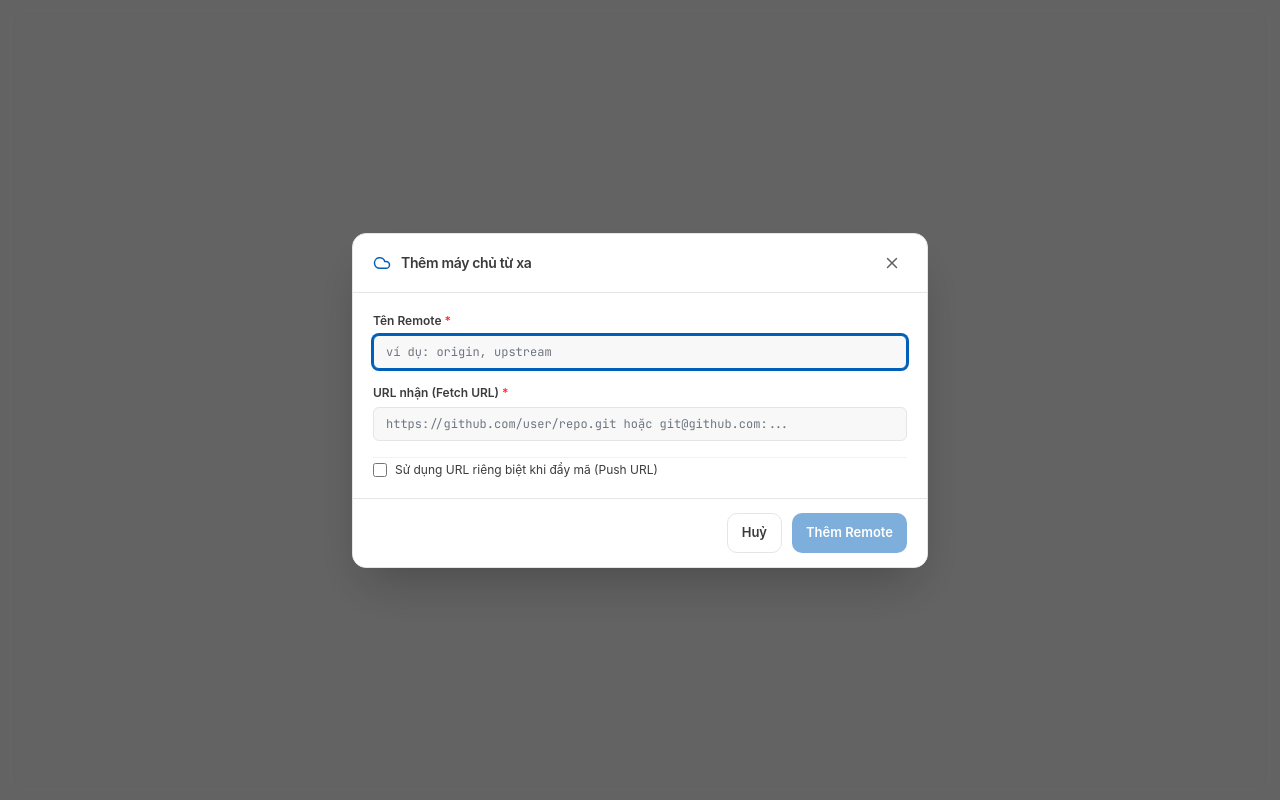
Test: AddEditRemoteModal › shows the error and stays open when adding fails
This screenshot has width=1280, height=800.
Type "upstream" into the field labelled "Tên Remote *" at (640, 352), box x1=373 y1=334 x2=907 y2=368
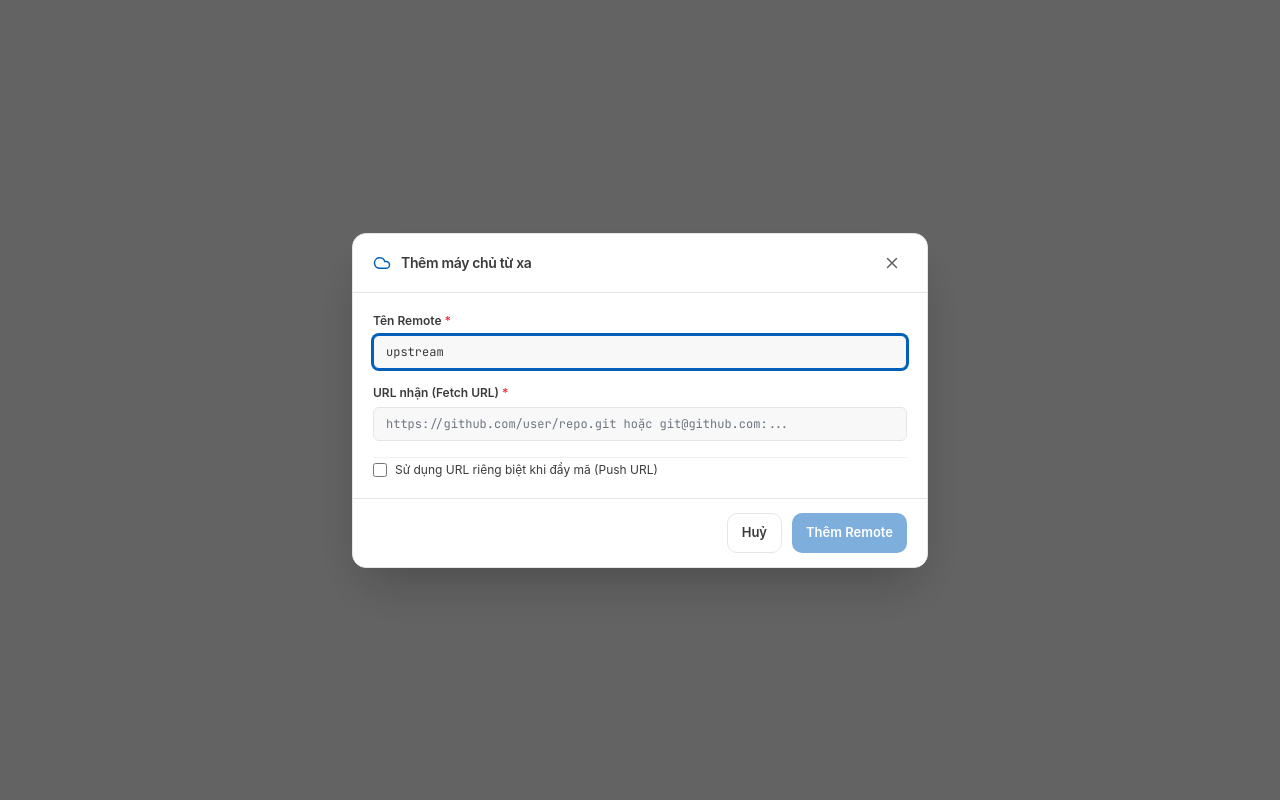
Type "https://example.com/a.git" into the field labelled "URL nhận (Fetch URL) *" at (640, 424), box x1=373 y1=406 x2=907 y2=440
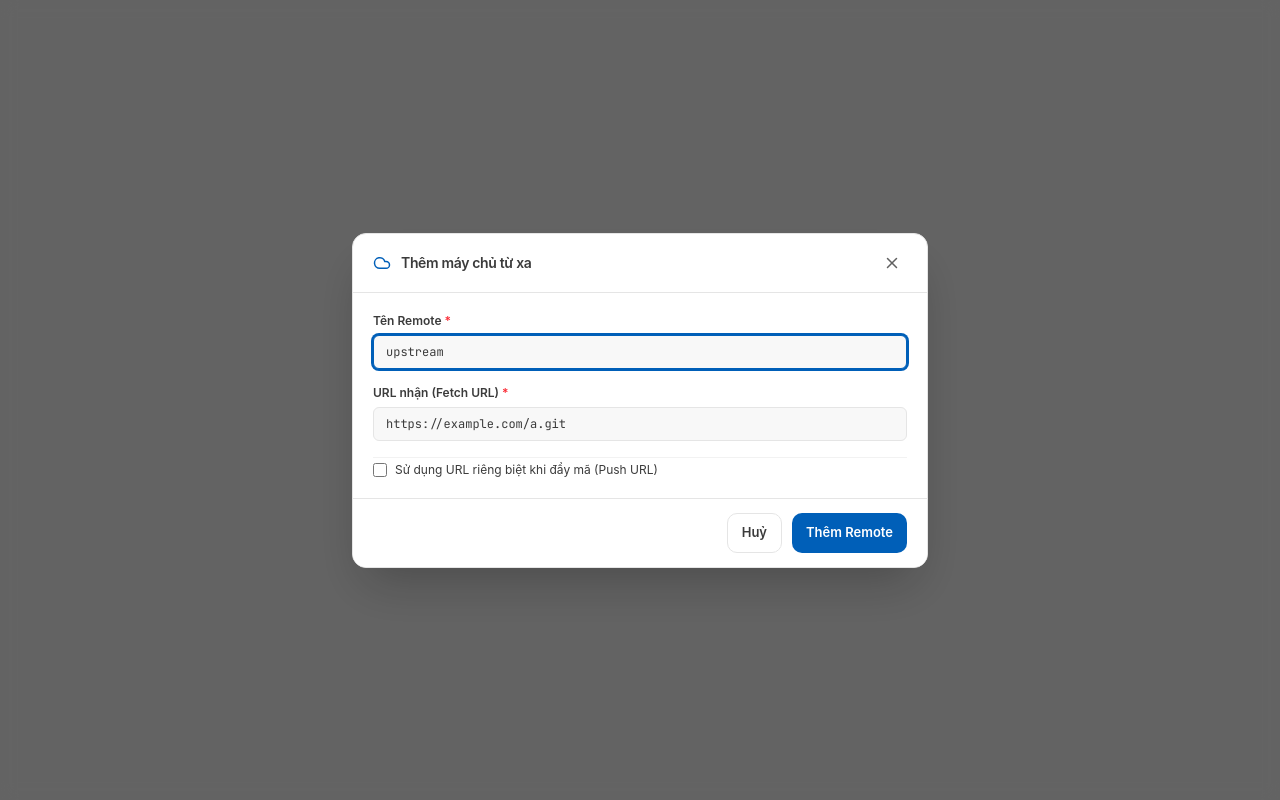
Click the button "Thêm Remote" at (850, 532), box x1=792 y1=512 x2=907 y2=552
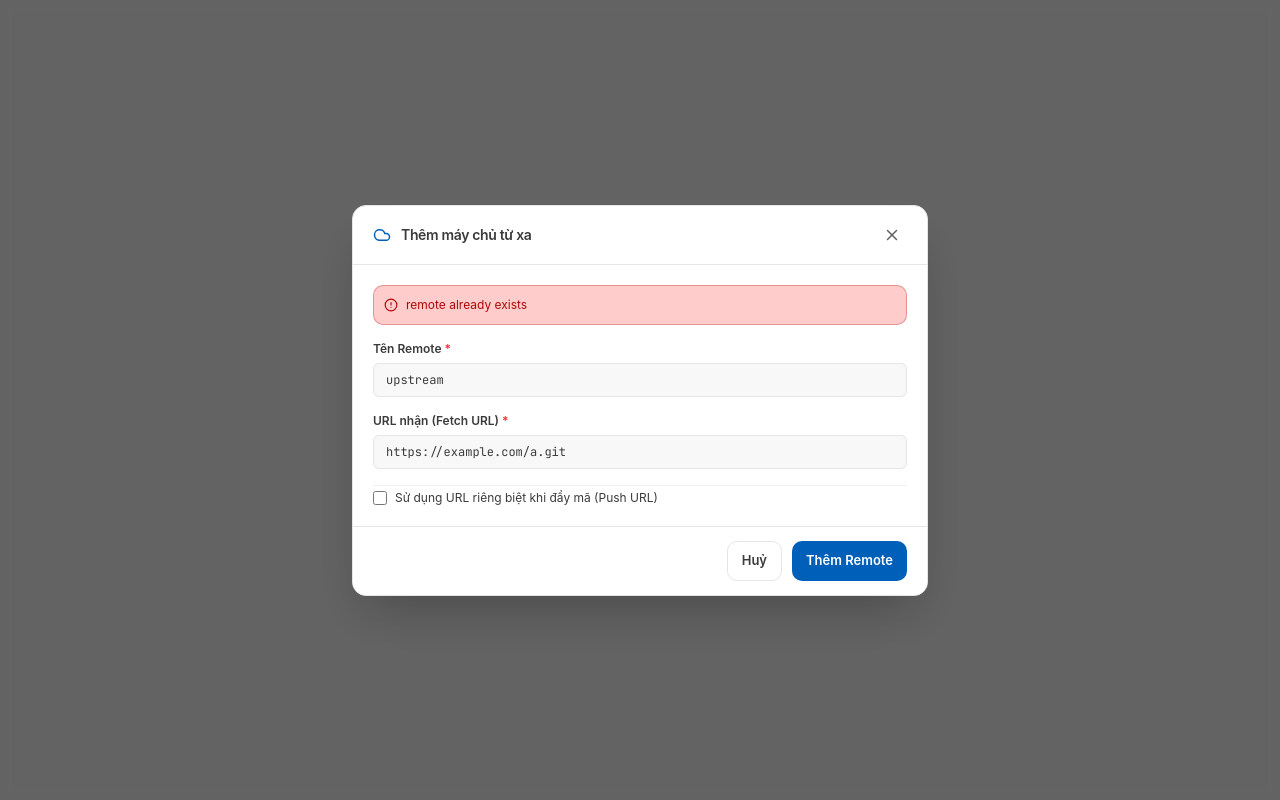
Expected: the text "remote already exists" is shown, x1=406 y1=296 x2=527 y2=314
